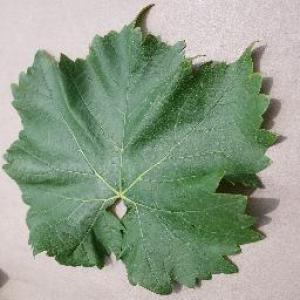Folha: (1, 2, 279, 296)
